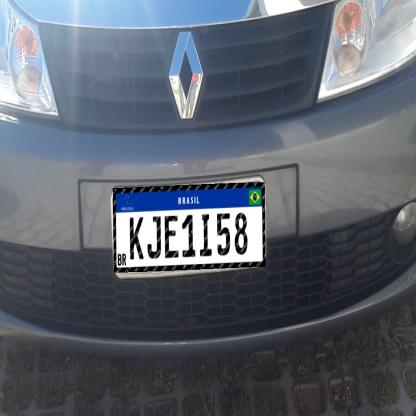PlacaM: (113, 182, 265, 273)
